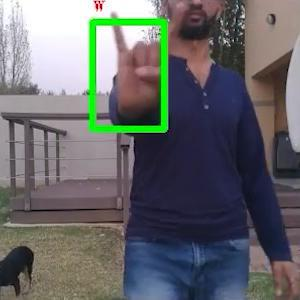takeoff-hand: (100, 0, 181, 115)
